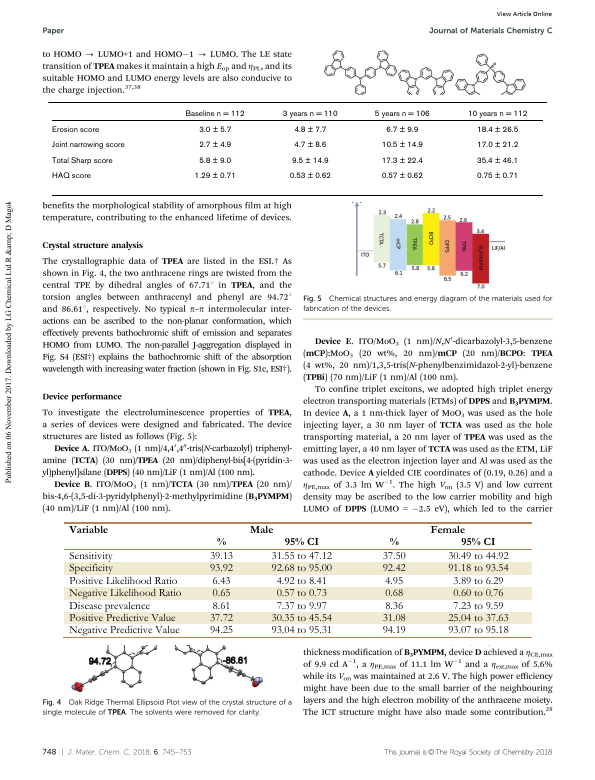borderless: (64, 520, 532, 637), (47, 100, 543, 195)
cell: (68, 588, 182, 600), (68, 625, 180, 637), (68, 575, 178, 587), (68, 613, 176, 625), (68, 600, 150, 612), (50, 141, 125, 151), (270, 551, 332, 563), (447, 551, 509, 563), (270, 563, 332, 575), (447, 563, 509, 575), (270, 613, 332, 625), (447, 613, 509, 625), (270, 625, 332, 637), (447, 625, 509, 637), (50, 156, 113, 166), (275, 575, 327, 587), (452, 575, 504, 587), (275, 588, 327, 600), (452, 588, 504, 600), (275, 600, 327, 612), (452, 600, 504, 612), (466, 109, 528, 119), (184, 109, 245, 119), (281, 109, 338, 119), (373, 109, 430, 119), (68, 551, 113, 563), (68, 563, 113, 575), (50, 125, 99, 135), (475, 125, 519, 135), (475, 141, 519, 151), (475, 156, 519, 166), (475, 172, 519, 182), (380, 141, 423, 151), (380, 156, 423, 166), (193, 172, 236, 182), (288, 172, 331, 182), (380, 172, 423, 182), (68, 524, 109, 534), (50, 172, 91, 182), (290, 156, 329, 166), (429, 524, 465, 534), (198, 125, 232, 135), (293, 125, 327, 135), (385, 125, 419, 135), (198, 141, 232, 151), (293, 141, 327, 151), (198, 156, 232, 166), (283, 537, 319, 546), (460, 537, 496, 546), (208, 551, 233, 563), (381, 551, 406, 563), (208, 563, 233, 575), (381, 563, 406, 575), (208, 613, 233, 625), (381, 613, 406, 625), (208, 625, 233, 637), (381, 625, 406, 637), (248, 524, 274, 534), (211, 575, 231, 587), (211, 588, 231, 600), (211, 600, 231, 612), (384, 575, 403, 587), (384, 588, 403, 600), (384, 600, 403, 612), (215, 537, 226, 546), (388, 537, 399, 546)
